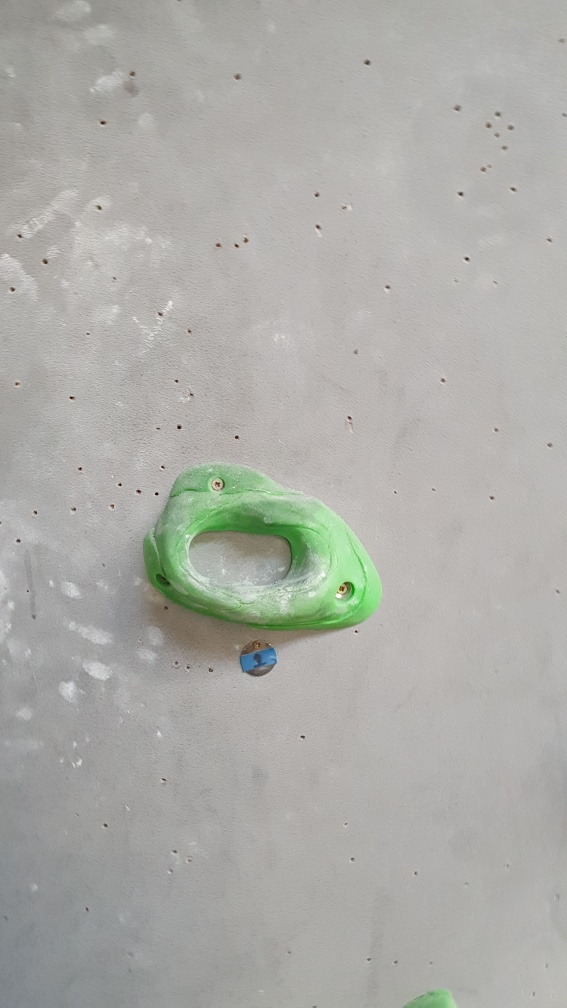Hand Start: (235, 634, 280, 681)
Pocket: (140, 460, 385, 635)
